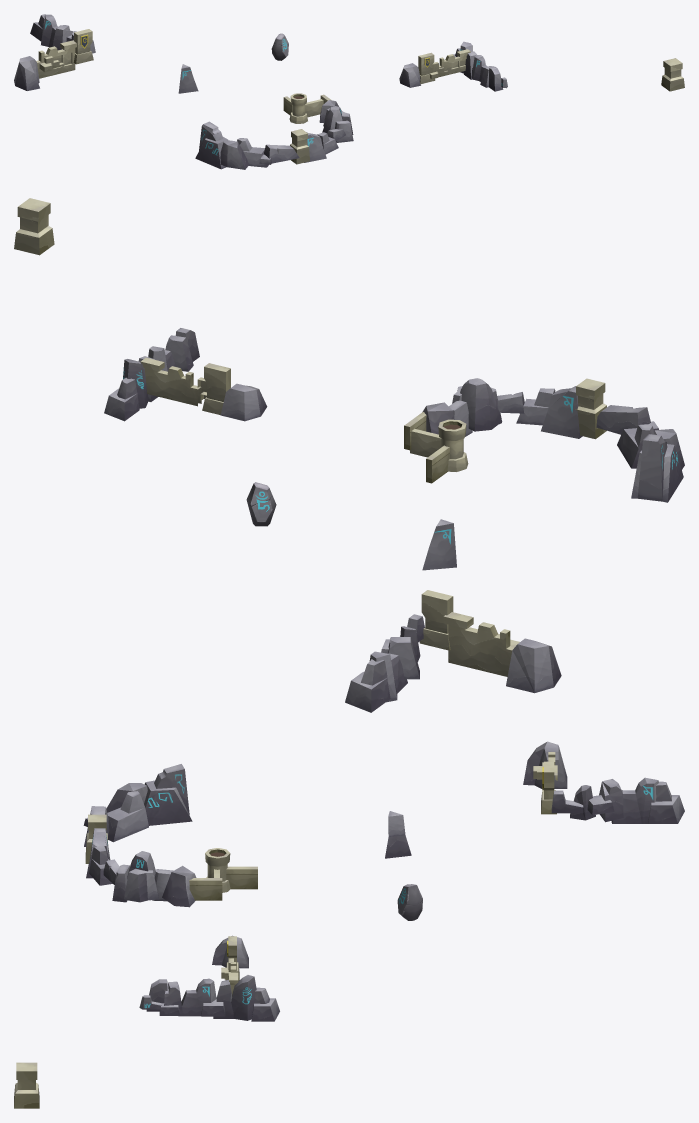
File: dibian_02.FBX
The picture shows the model from 3 angles, top to bottom: view 1: azimuth 30°, elevation 25°; view 2: azimuth 150°, elevation 25°; view 3: azimuth 270°, elevation 25°; orthographic projection. The views are drawn at different scales.
Parts seen in each view (by area): view 1: shuijingquanshui; view 2: shuijingquanshui; view 3: shuijingquanshui.
Boxes of the visible parts, box(x1,y1,x2,y2) form: shuijingquanshui: box(14, 14, 684, 169); shuijingquanshui: box(14, 198, 684, 712); shuijingquanshui: box(14, 741, 684, 1108).
Size of the model in its own units: 3671 by 269 by 2955.
